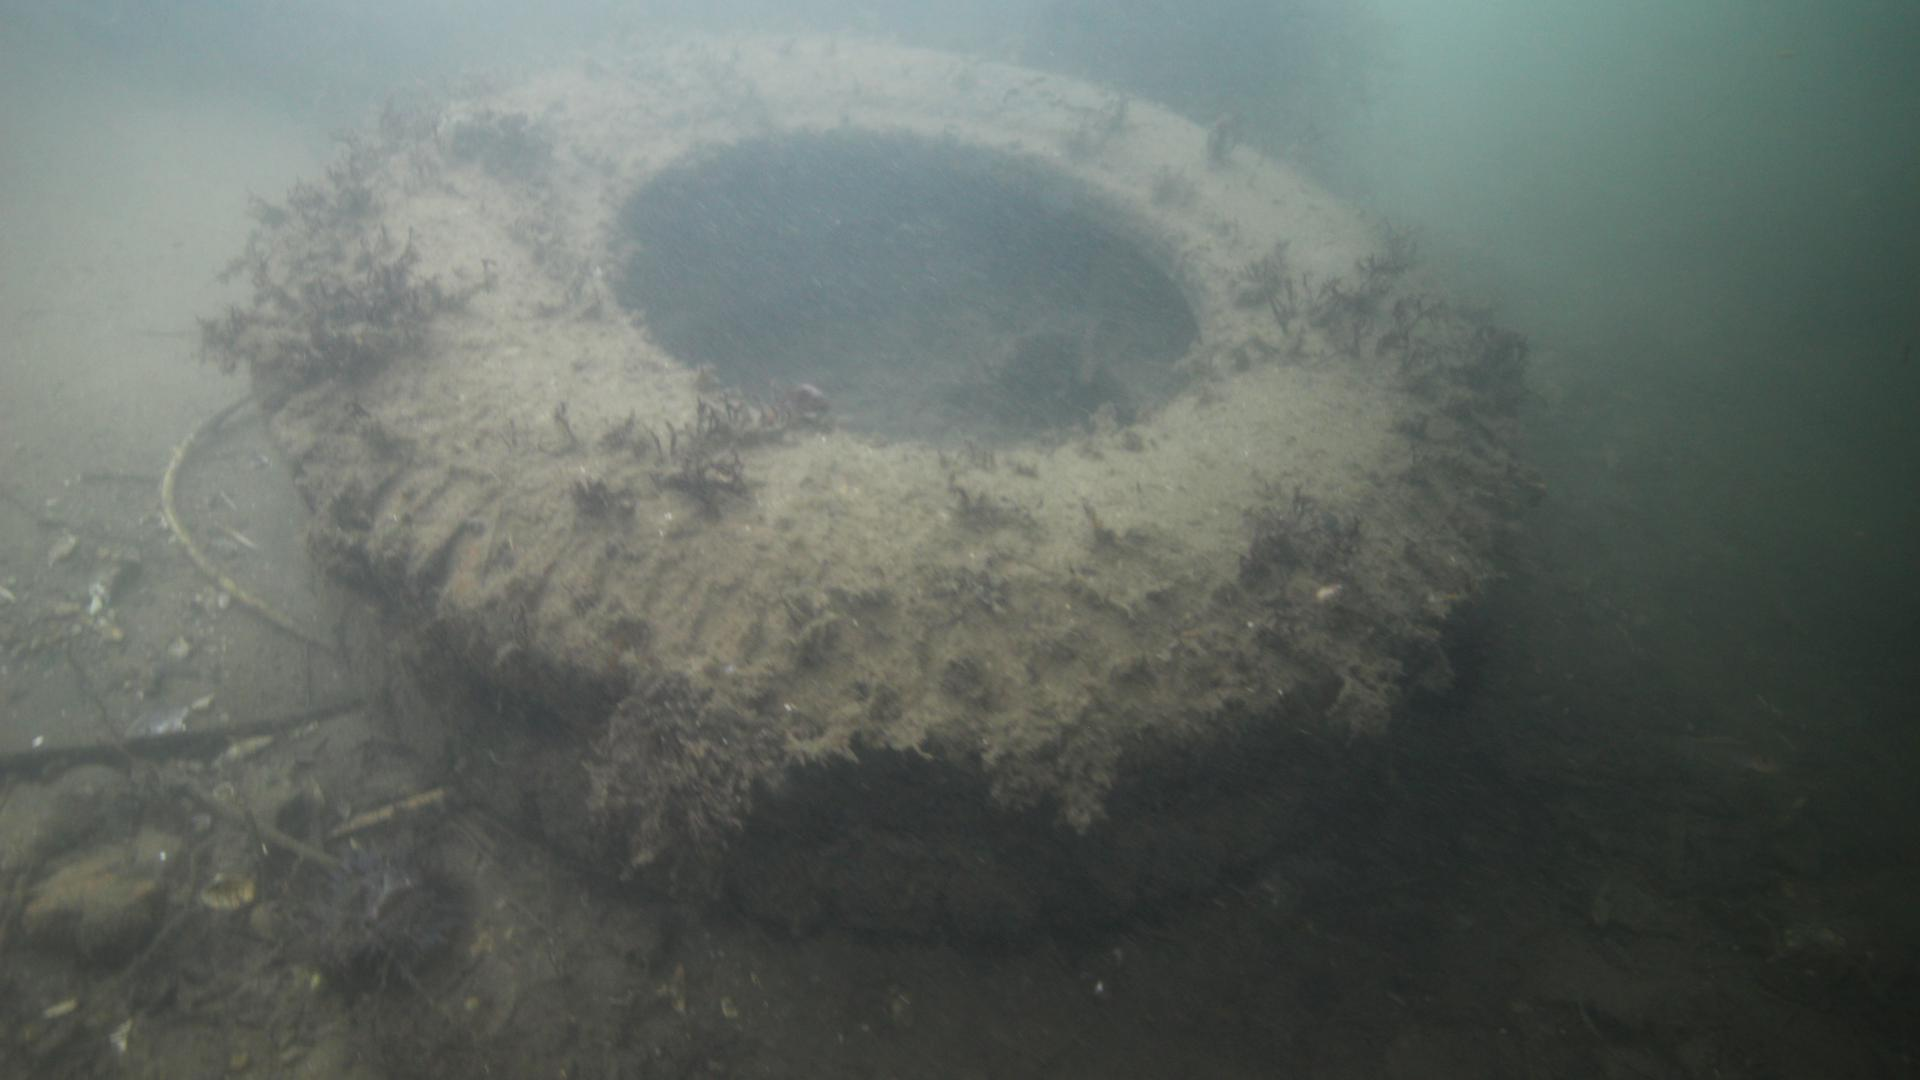tire: (266, 30, 1524, 939)
